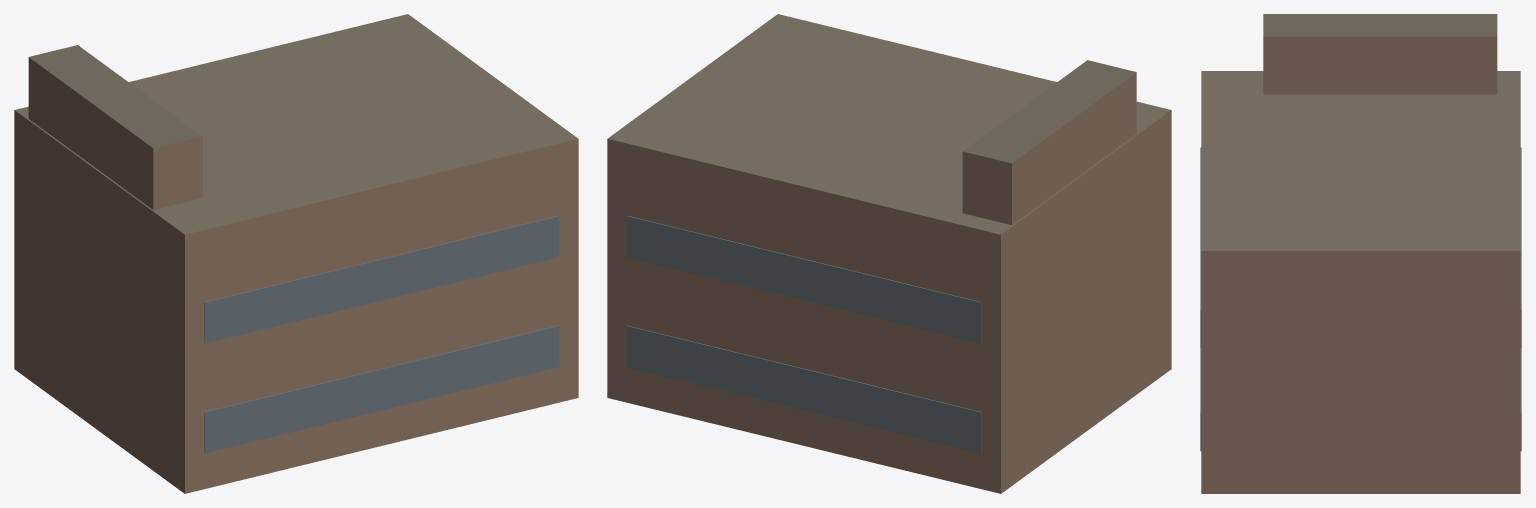
Rendered from harbour-office.tone-v1.lod2.glb.
3 views of the same model, side by side, from view 1: azimuth 30°, elevation 25°; view 2: azimuth 150°, elevation 25°; view 3: azimuth 270°, elevation 25° (orthographic). The views are drawn at different scales.
Parts seen in each view (by area): view 1: harbour-office; view 2: harbour-office; view 3: harbour-office.
Part boxes in pixels (box(x1,y1,x2,y2)): harbour-office: box(14, 14, 578, 493); harbour-office: box(607, 14, 1171, 493); harbour-office: box(1200, 14, 1521, 493).
Bounding box in the file's own units: 12 × 9.35 × 9.06.
